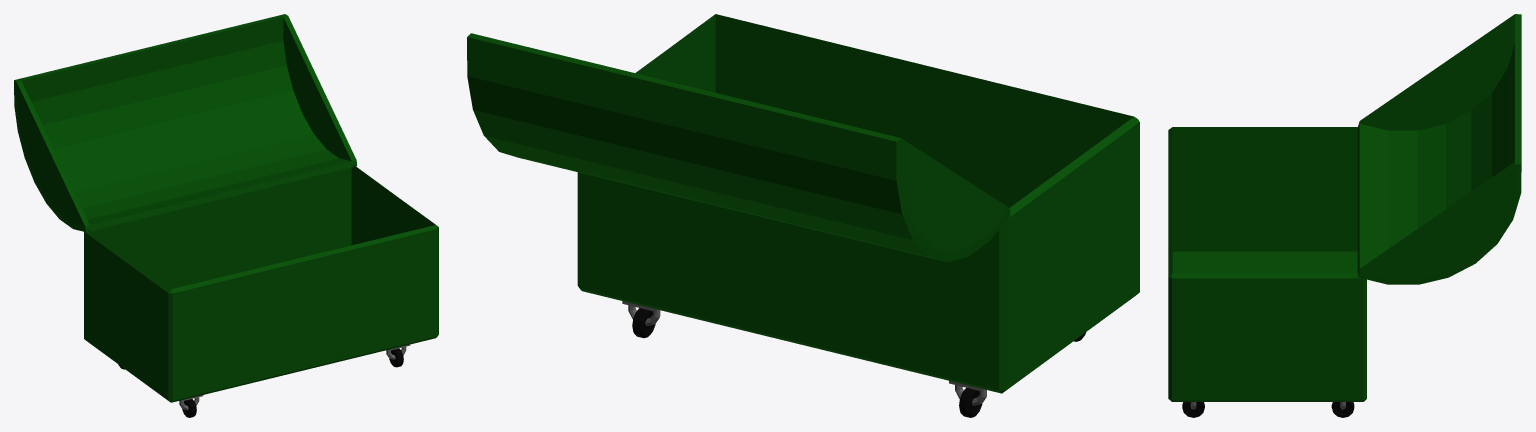
Rendered from Dumpster.fbx.
3 views of the same model, side by side, from view 1: azimuth 30°, elevation 25°; view 2: azimuth 150°, elevation 25°; view 3: azimuth 270°, elevation 25° (orthographic). The views are drawn at different scales.
Visible parts, largest first — view 1: Dumpster, Lid; view 2: Dumpster, Lid; view 3: Dumpster, Lid.
Boxes of the visible parts, x1,y1,x2,y2 form: Dumpster: (84, 165, 438, 402); Lid: (14, 14, 357, 232); Dumpster: (577, 14, 1139, 393); Lid: (467, 33, 1010, 262); Dumpster: (1168, 127, 1366, 401); Lid: (1357, 14, 1521, 284).
Bounding box in the file's own units: 251 × 211 × 249.
